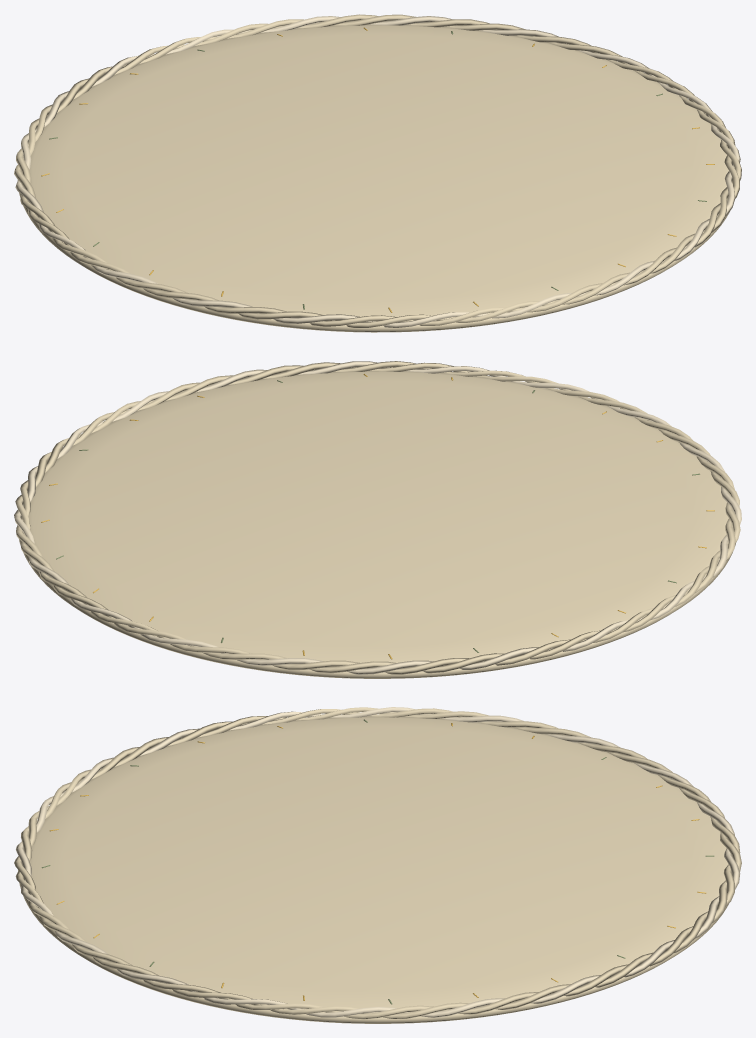
Rendered from Rug.fbx.
3 views of the same model, one above another, from view 1: azimuth 30°, elevation 25°; view 2: azimuth 150°, elevation 25°; view 3: azimuth 270°, elevation 25° (orthographic).
Parts seen in each view (by area): view 1: Rug; view 2: Rug; view 3: Rug.
Part boxes in pixels (box(x1,y1,x2,y2)): Rug: box(14, 14, 741, 332); Rug: box(14, 361, 741, 678); Rug: box(14, 707, 741, 1023).
Size of the model in its own units: 220 by 6 by 220.
1 material, 1 textured.
